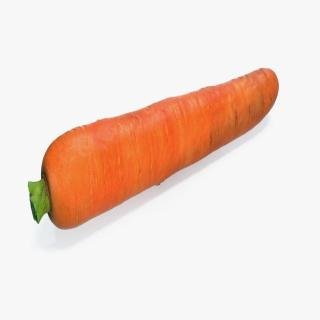carrot: (27, 66, 280, 235)
